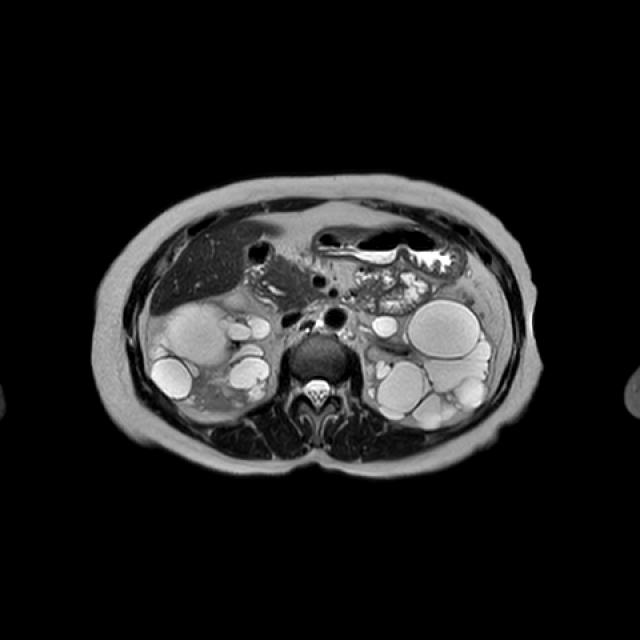sag: (147, 295, 271, 409)
sol: (367, 300, 493, 430)
